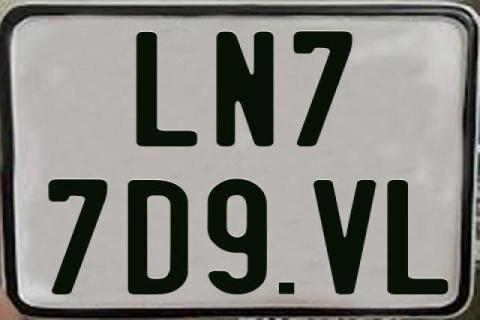0: (292, 29, 357, 147), (45, 179, 109, 297), (207, 179, 267, 299)
D: (128, 179, 192, 299)
L: (136, 31, 201, 145), (386, 179, 447, 295)
N: (213, 31, 274, 149)
V: (312, 178, 381, 296)
